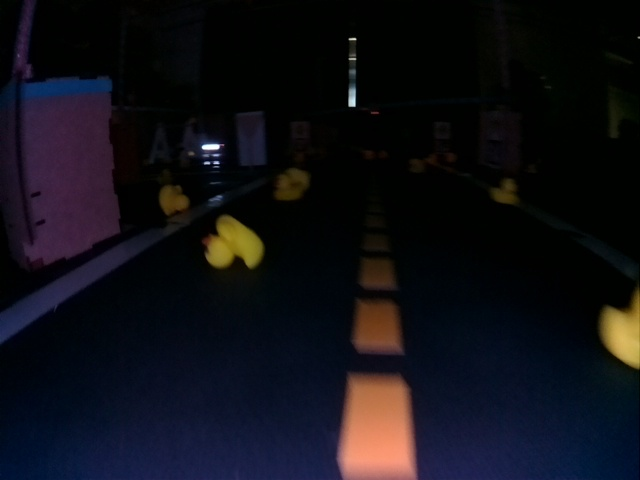Duckie: (204, 218, 264, 269), (599, 301, 639, 367), (158, 185, 190, 213), (272, 174, 302, 197), (491, 179, 516, 203)
